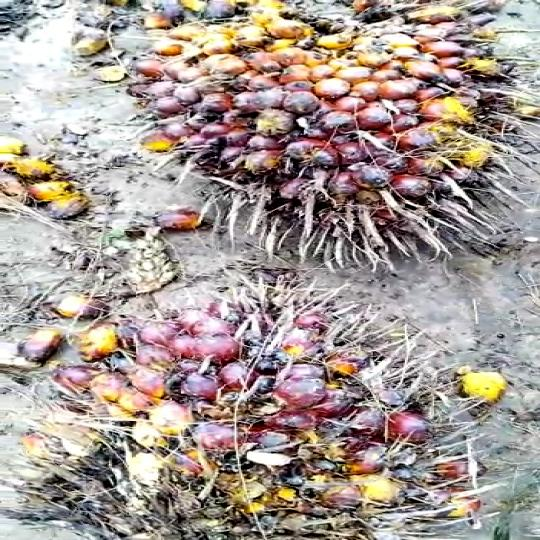masak: (41, 0, 540, 270), (0, 286, 490, 540)
